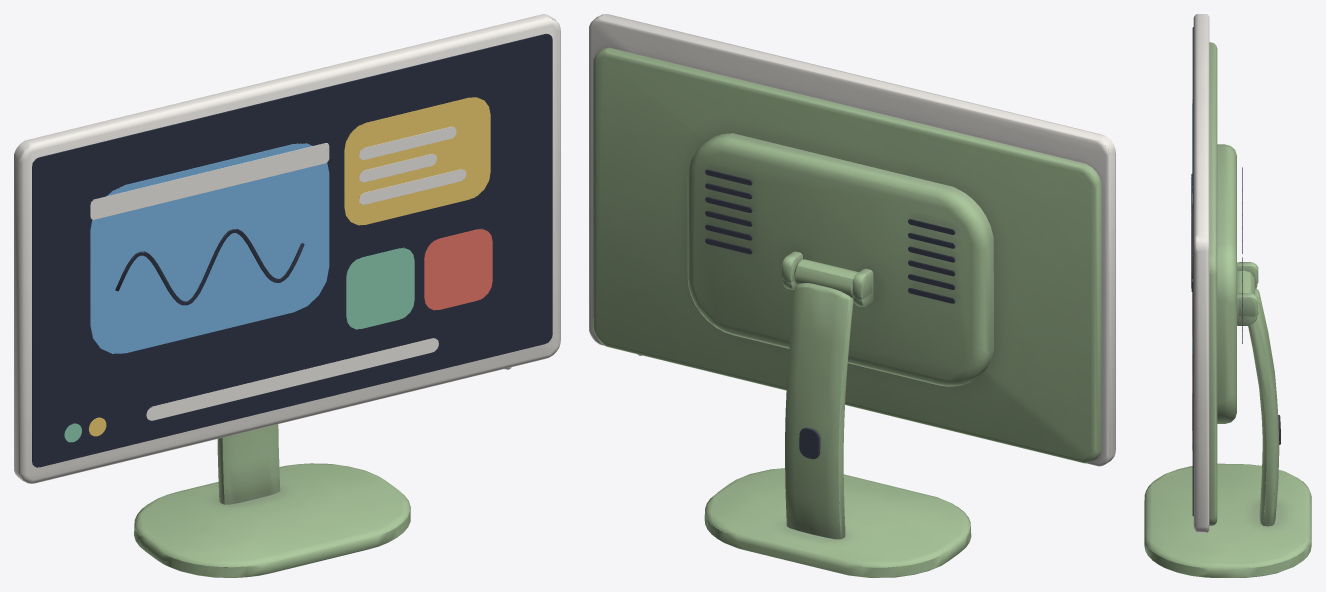
Rendered from computer-monitor-leve.glb.
3 renders of one model, left to right at view 1: azimuth 30°, elevation 25°; view 2: azimuth 150°, elevation 25°; view 3: azimuth 270°, elevation 25°, orthographic. The views are drawn at different scales.
Parts seen in each view (by area): view 1: computer-monitor_screen_glass, computer-monitor_tilt, computer-monitor_body; view 2: computer-monitor_tilt, computer-monitor_body; view 3: computer-monitor_tilt, computer-monitor_body, computer-monitor_screen_glass.
Boxes of the visible parts, x1,y1,x2,y2 form: computer-monitor_screen_glass: (32,33,552,467); computer-monitor_tilt: (14,14,560,483); computer-monitor_body: (134,424,410,577); computer-monitor_tilt: (589,14,1115,466); computer-monitor_body: (704,259,971,577); computer-monitor_tilt: (1193,14,1258,532); computer-monitor_body: (1144,270,1311,577); computer-monitor_screen_glass: (1191,27,1193,516).
Bounding box in the file's own units: 0.5556 × 0.4518 × 0.1696.
Materials: 9 (2 with a texture image).
